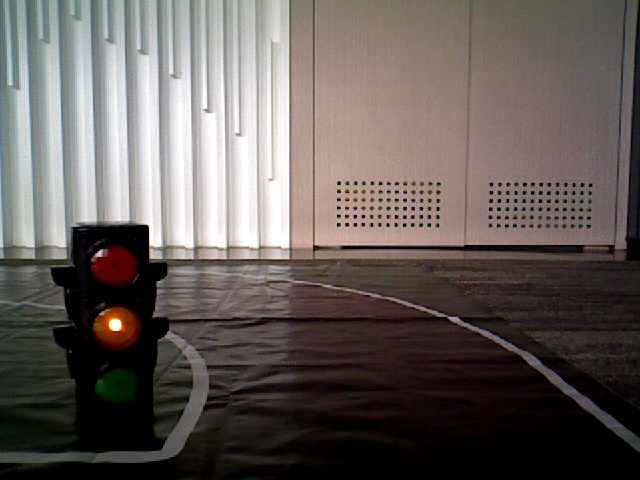yellow: (76, 226, 150, 410)
